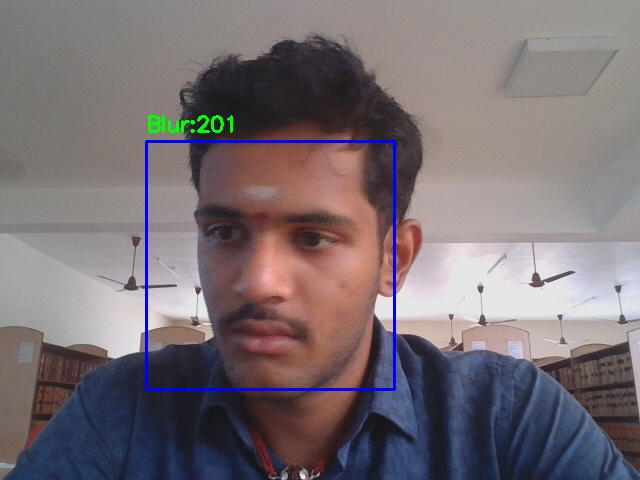real: (146, 141, 394, 389)
